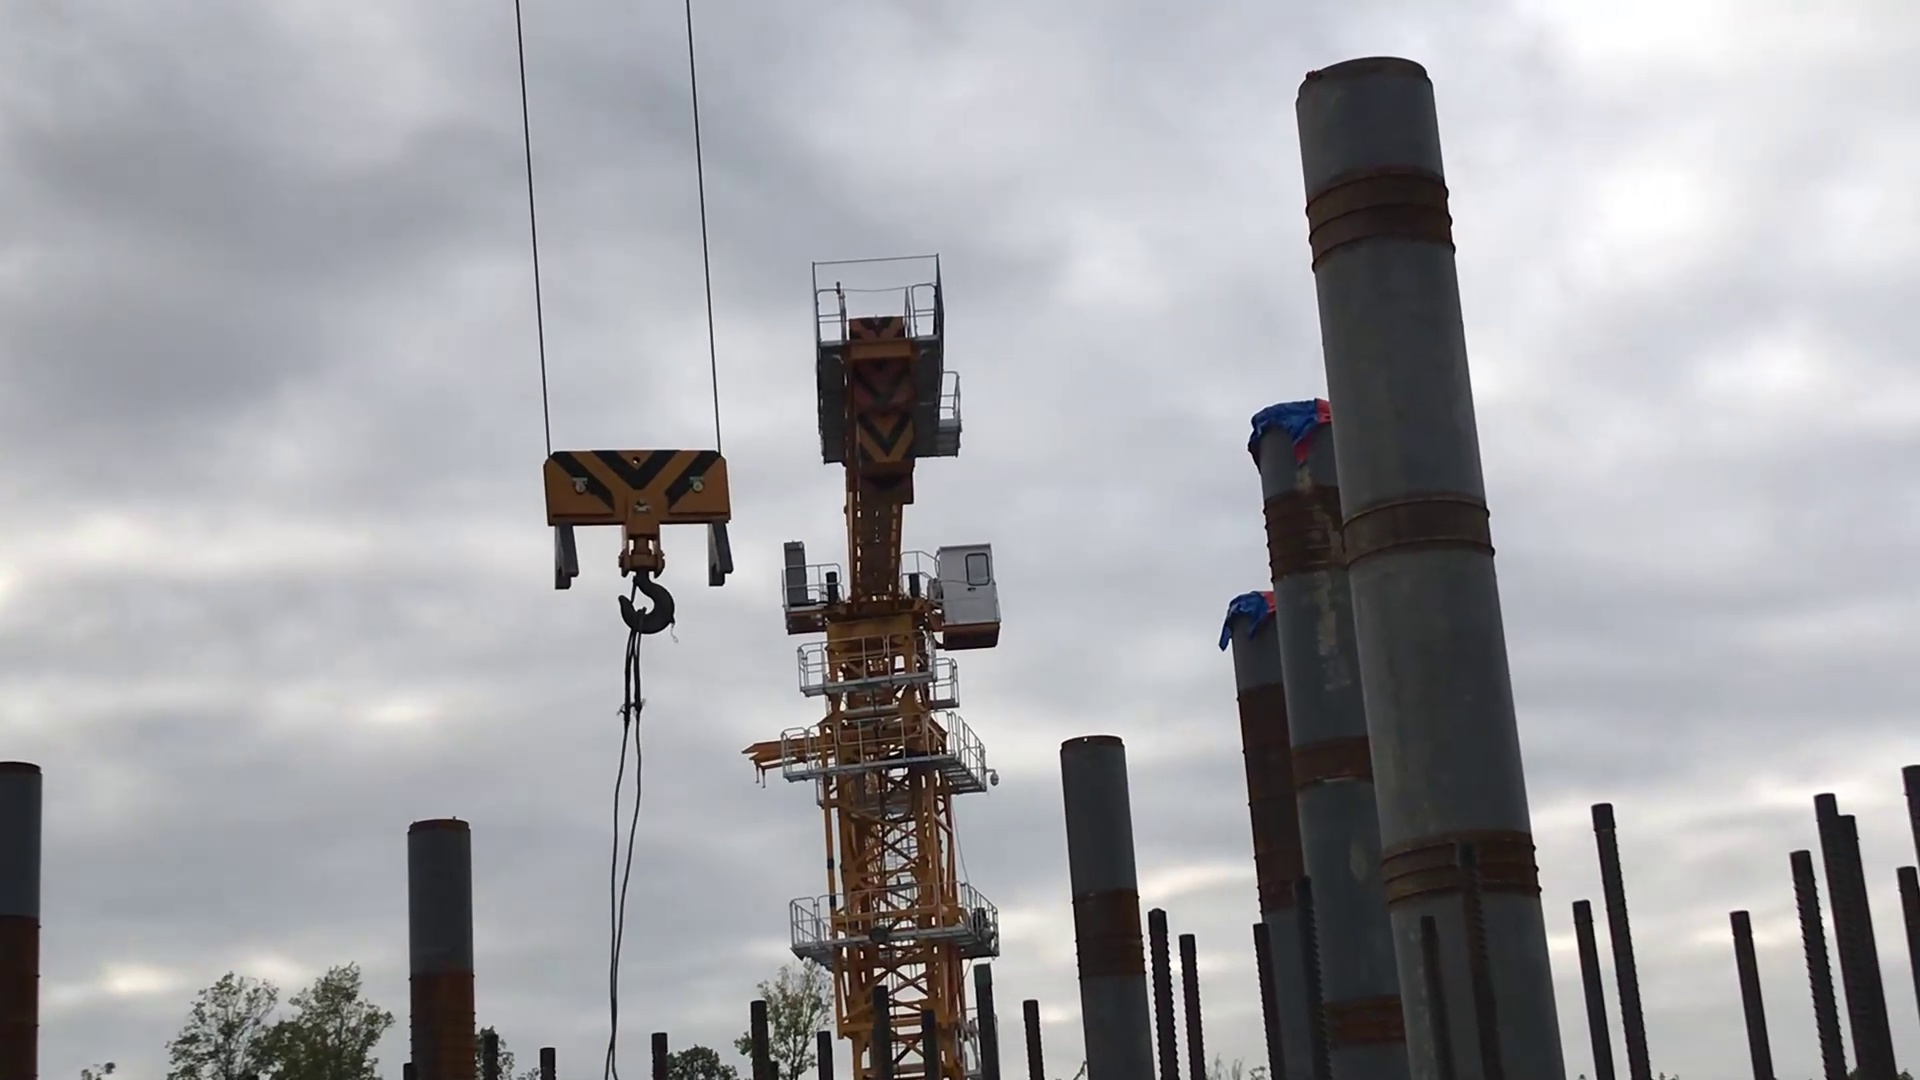hook: (534, 440, 744, 640)
